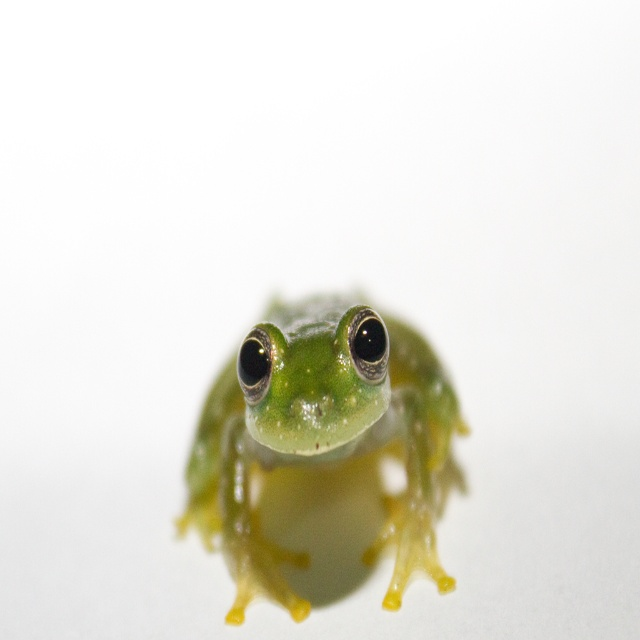Frog: (170, 285, 469, 628)
